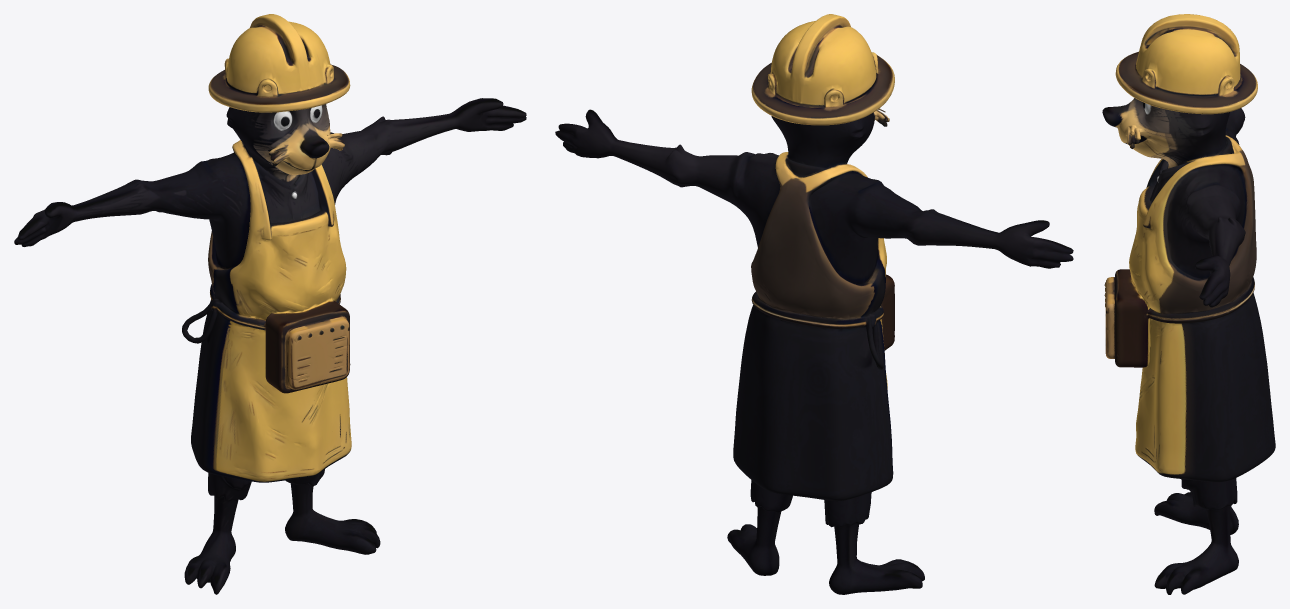
Rendered from foreman_tuck.fbx.
The picture shows the model from 3 angles, left to right: view 1: azimuth 30°, elevation 25°; view 2: azimuth 150°, elevation 25°; view 3: azimuth 270°, elevation 25°; orthographic projection. The views are drawn at different scales.
Visible parts, largest first — view 1: foreman_tuck; view 2: foreman_tuck; view 3: foreman_tuck.
Boxes of the visible parts, left/top/right/bottom form: foreman_tuck: left=14, top=14, right=526, bottom=594; foreman_tuck: left=555, top=14, right=1073, bottom=594; foreman_tuck: left=1102, top=14, right=1275, bottom=594.
Size of the model in its own units: 1.48 by 1.5 by 0.4377.
1 material, 1 textured.
